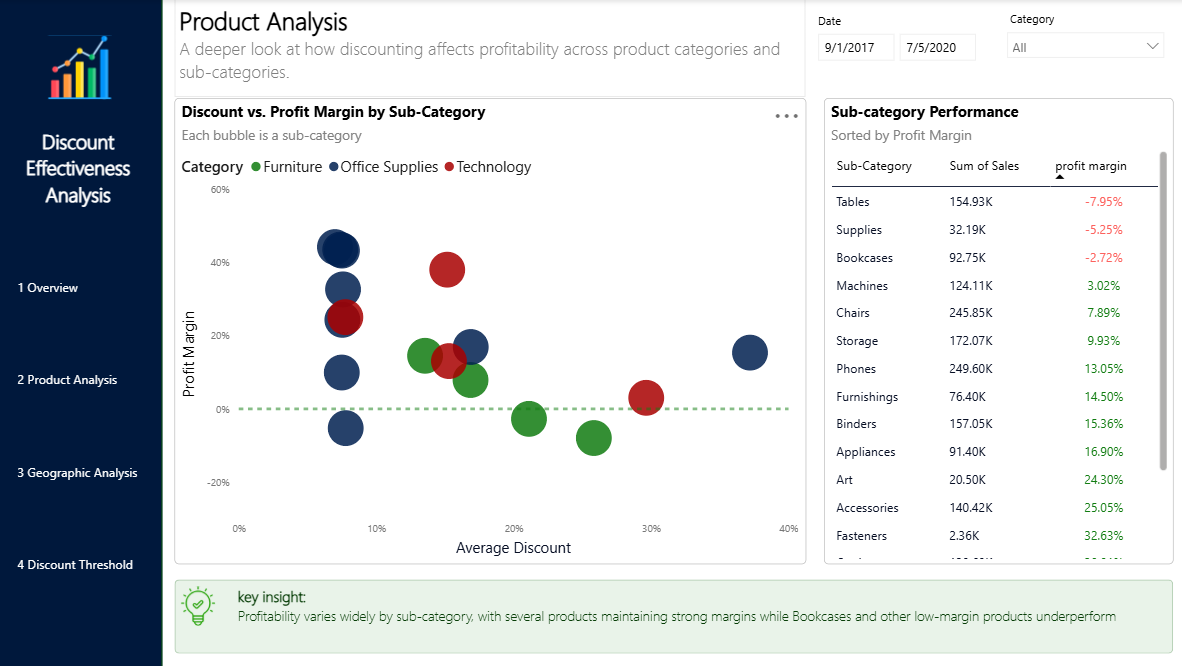

The page's visual inventory and layout, read from the dashboard file:
{"tool":"powerbi","page":{"name":"Product Analysis","canvas":[1280,720],"ordinal":1},"visuals":[{"type":"shape","box":[0,0,176.4,808.3],"z":0,"group":"g1"},{"type":"textbox","box":[189.4,0,681.7,105.2],"z":0},{"type":"slicer","fields":{"Values":["DIM_Product.Category"]},"box":[1078.4,8.1,189.4,66.4],"z":1000},{"type":"actionButton","title":"4 Discount Threshold","box":[0,268.4,176.2,83.4],"z":1000,"group":"g1"},{"type":"slicer","fields":{"Values":["DIM_Date.Date"]},"box":[871.7,10,206.7,65],"z":2000},{"type":"actionButton","title":"3 Geographic Analysis","box":[0.6,369,176.4,82.6],"z":2000,"group":"g1"},{"type":"scatterChart","title":"Discount vs. Profit Margin by Sub-Category","fields":{"X":["Avg(Fact_Sales.Discount)"],"Y":["Measures_Table.profit margin"],"Series":["DIM_Product.Category"],"Category":["DIM_Product.Sub-Category"]},"box":[189.4,106.9,681.7,503.6],"z":3000},{"type":"actionButton","title":"2 Product Analysis","box":[0.6,468.9,176.4,82.6],"z":3000,"group":"g1"},{"type":"actionButton","title":"1 Overview","box":[0.6,568.8,176.4,82.6],"z":4000,"group":"g1"},{"type":"tableEx","title":"Sub-category Performance","fields":{"Values":["DIM_Product.Sub-Category","Sum(Fact_Sales.Sales)","Measures_Table.profit margin"]},"box":[890.6,106.9,377.3,503.6],"z":5000},{"type":"textbox","box":[15.2,132.8,141.6,111.8],"z":5000,"group":"g1"},{"type":"group","id":"g1","title":"Sidebar Panel","box":[0,0,177,808.3],"z":6000},{"type":"actionButton","box":[41.7,35,90,76.7],"z":7000},{"type":"group","id":"g2","title":"insight bar","box":[189.7,626.8,1078,80],"z":8000},{"type":"shape","box":[189.7,626.8,1078,80],"z":13500,"group":"g2"},{"type":"actionButton","box":[189.9,630.7,53.9,51],"z":14000,"group":"g2"},{"type":"textbox","box":[252.1,628.9,1012.2,71.5],"z":14500,"group":"g2"}]}

Visuals, with their boxes on the page's 1280x720 design canvas (x1, y1, x2, y2). These are canvas units, not pixel positions in the 1182x666 screenshot, which may show the page scaled, cropped or inside an application window:
shape: pyautogui.locateOnScreen(0, 0, 176, 808)
textbox: pyautogui.locateOnScreen(189, 0, 871, 105)
slicer - DIM_Product.Category: pyautogui.locateOnScreen(1078, 8, 1268, 74)
"4 Discount Threshold" actionButton: pyautogui.locateOnScreen(0, 268, 176, 352)
slicer - DIM_Date.Date: pyautogui.locateOnScreen(872, 10, 1078, 75)
"3 Geographic Analysis" actionButton: pyautogui.locateOnScreen(1, 369, 177, 452)
"Discount vs. Profit Margin by Sub-Category" scatterChart: pyautogui.locateOnScreen(189, 107, 871, 610)
"2 Product Analysis" actionButton: pyautogui.locateOnScreen(1, 469, 177, 552)
"1 Overview" actionButton: pyautogui.locateOnScreen(1, 569, 177, 651)
"Sub-category Performance" tableEx: pyautogui.locateOnScreen(891, 107, 1268, 610)
textbox: pyautogui.locateOnScreen(15, 133, 157, 245)
"Sidebar Panel" group: pyautogui.locateOnScreen(0, 0, 177, 808)
actionButton: pyautogui.locateOnScreen(42, 35, 132, 112)
"insight bar" group: pyautogui.locateOnScreen(190, 627, 1268, 707)
shape: pyautogui.locateOnScreen(190, 627, 1268, 707)
actionButton: pyautogui.locateOnScreen(190, 631, 244, 682)
textbox: pyautogui.locateOnScreen(252, 629, 1264, 700)
